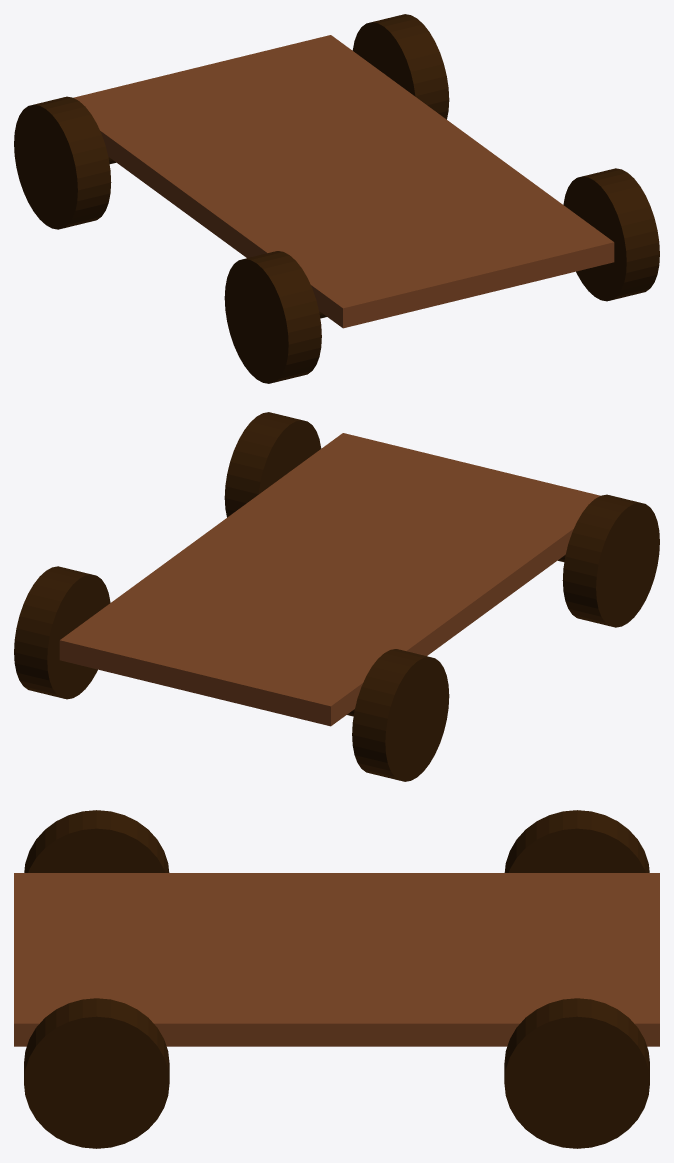
The model's file is transport1.fbx.
3 renders of one model, top to bottom at view 1: azimuth 30°, elevation 25°; view 2: azimuth 150°, elevation 25°; view 3: azimuth 270°, elevation 25°, orthographic. The views are drawn at different scales.
Visible parts, largest first — view 1: Cube, Cylinder.003, Cylinder.002, Cylinder, Cylinder.001; view 2: Cube, Cylinder.002, Cylinder.003, Cylinder.001, Cylinder; view 3: Cube, Cylinder, Cylinder.001, Cylinder.002, Cylinder.003.
Part boxes in pixels (<box>): Cube: <box>73,35,614,328</box>; Cylinder.003: <box>224,251,321,383</box>; Cylinder.002: <box>14,96,111,229</box>; Cylinder: <box>563,168,659,301</box>; Cylinder.001: <box>352,14,449,119</box>; Cube: <box>59,433,600,726</box>; Cylinder.002: <box>352,649,449,781</box>; Cylinder.003: <box>562,494,659,627</box>; Cylinder.001: <box>14,566,110,699</box>; Cylinder: <box>224,412,321,517</box>; Cube: <box>14,873,659,1046</box>; Cylinder: <box>24,998,169,1148</box>; Cylinder.001: <box>504,998,649,1148</box>; Cylinder.002: <box>504,810,649,872</box>; Cylinder.003: <box>24,810,169,872</box>.
Bounding box in the file's own units: 387 × 115 × 511.
